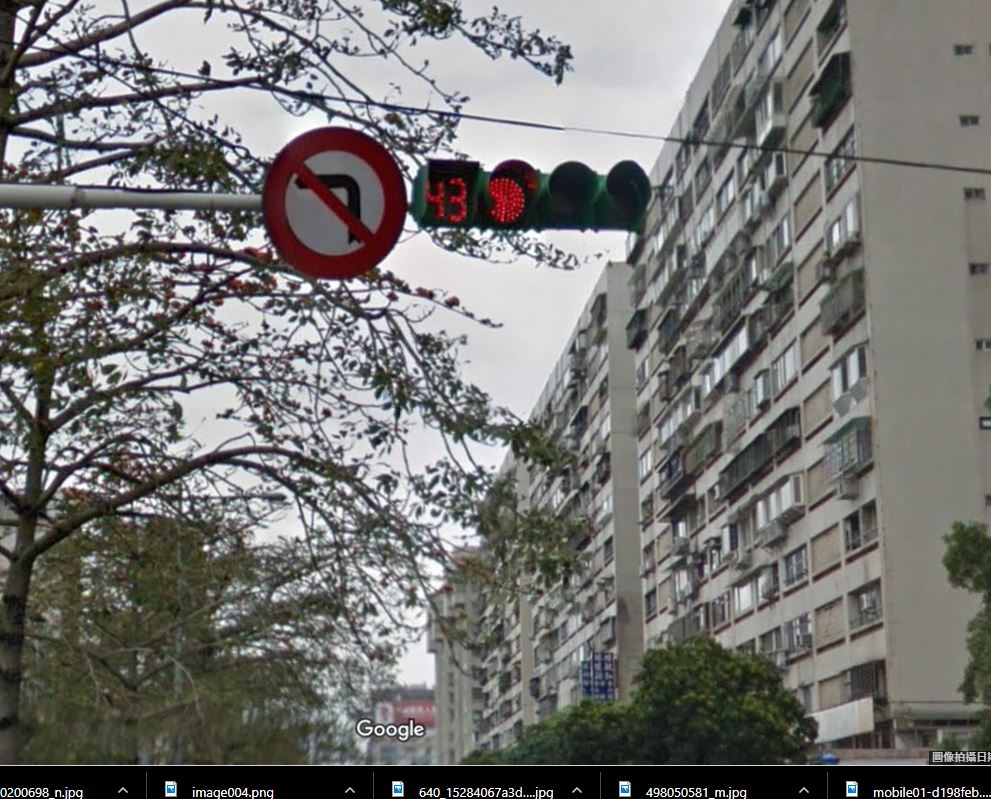No_left_turn: (262, 127, 407, 280)
Traffic_light_red: (413, 159, 653, 228)
